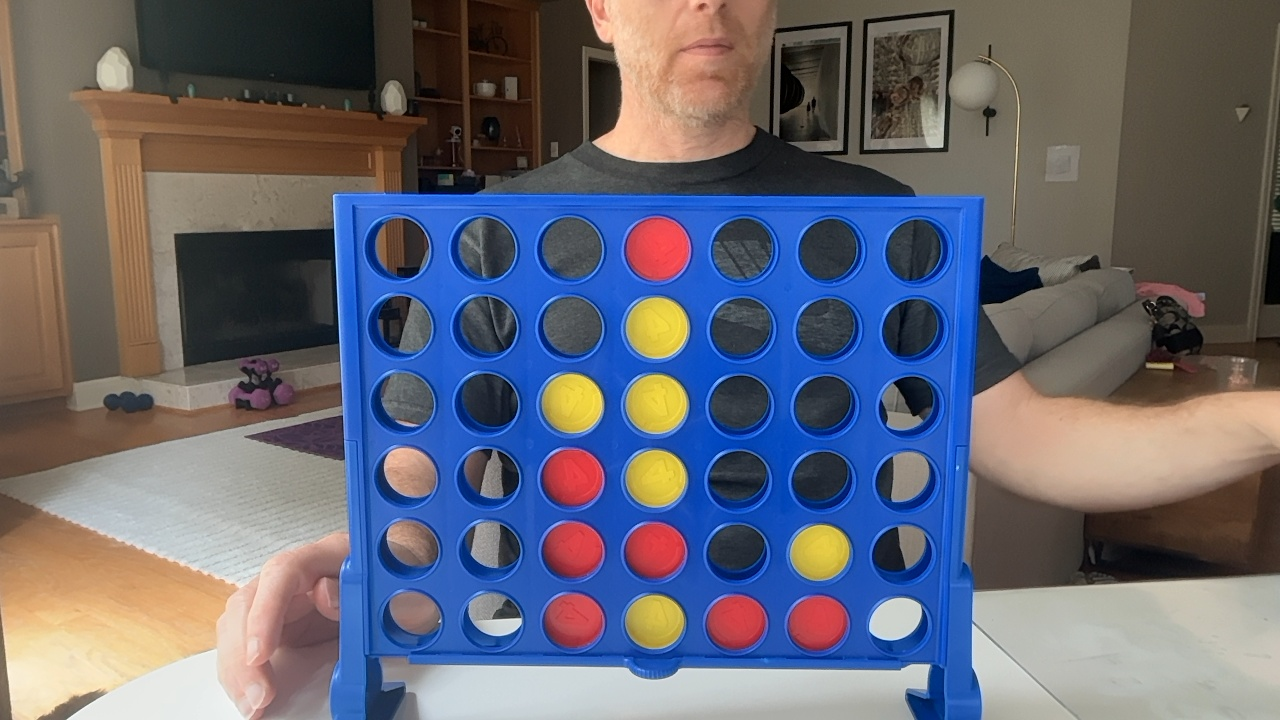red piece: (625, 217, 690, 281), (542, 448, 603, 507), (624, 522, 686, 580), (542, 521, 602, 579), (543, 593, 604, 649), (706, 595, 766, 651), (787, 596, 848, 651)
yellow piece: (625, 297, 689, 359), (625, 374, 688, 434), (541, 373, 603, 433), (625, 449, 687, 507), (789, 524, 850, 581), (625, 594, 685, 650)
